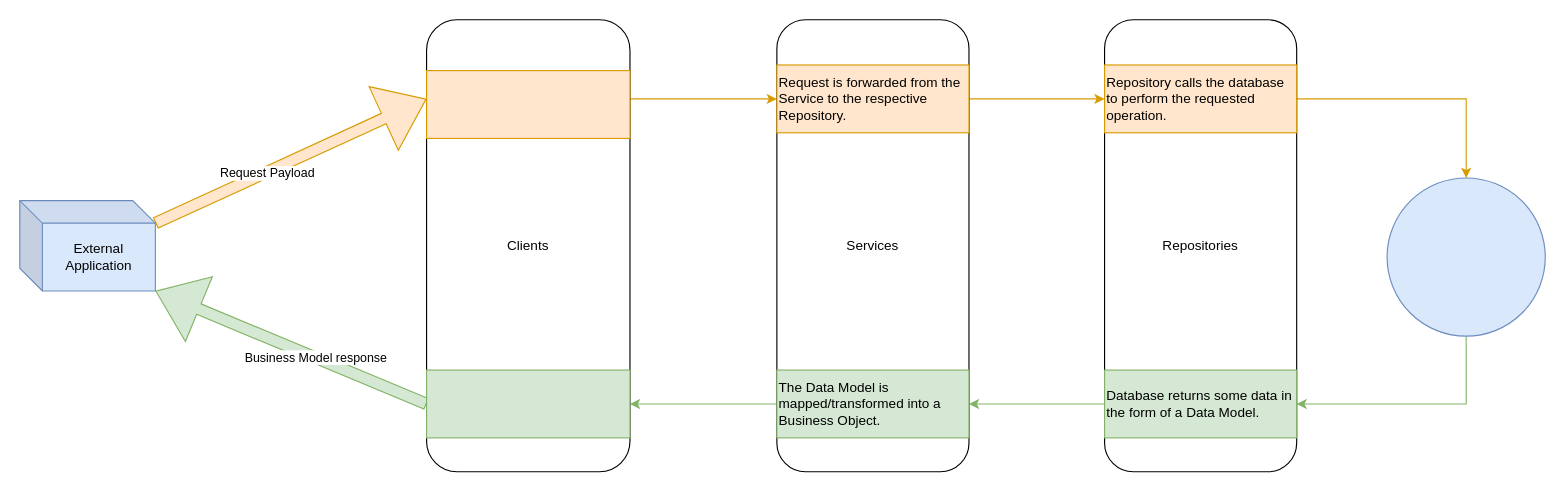
The diagram is 1565 pixels wide and 492 high, and some of its shapes have lost their labels. The centre of each missing label's shape, as x and y in pixels:
Business Object response is sent back to the External Application.: the point at 527,403
Database: the point at 1465,256
Request is forwarded from the client to the respective Service.: the point at 527,103
